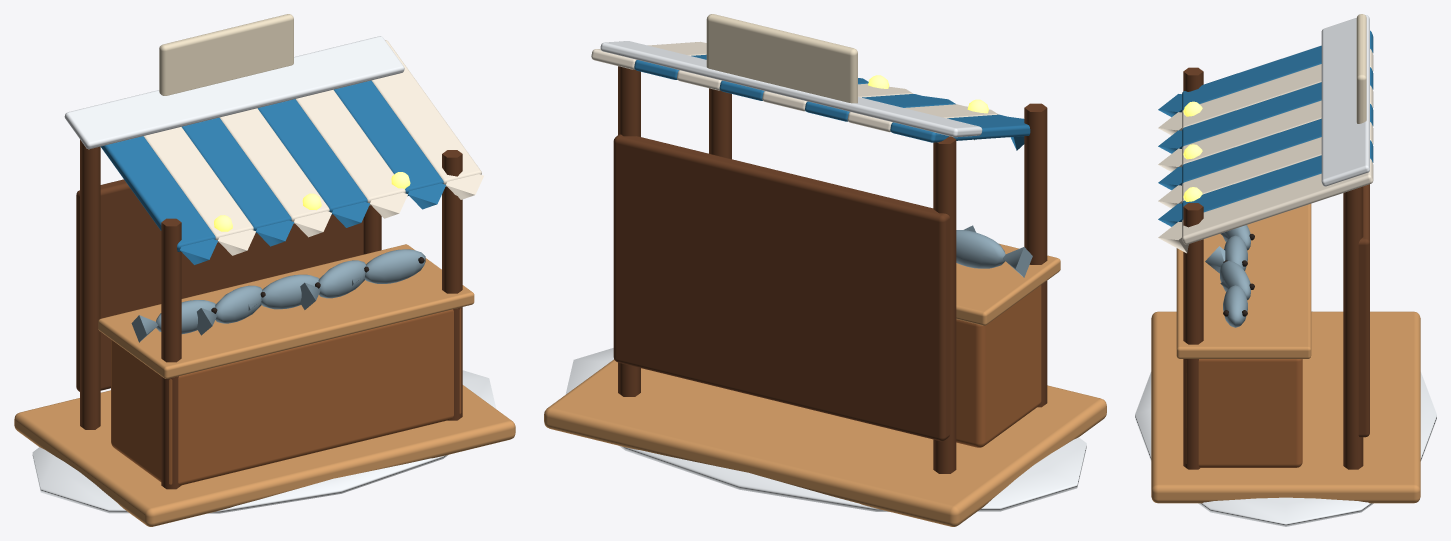
Rendered from shop_fish.glb.
3 renders of one model, left to right at view 1: azimuth 30°, elevation 25°; view 2: azimuth 150°, elevation 25°; view 3: azimuth 270°, elevation 25°, orthographic. The views are drawn at different scales.
Visible parts, largest first — view 1: n2623, n2620, n2624, n2629, n2647, n2648, n2626, n2621, n2631, n2635, n2639, n2625 (+20 smaller); view 2: n2629, n2620, n2623, n2648, n2621, n2647, n2625, n2624, n2626, n2628, n2631, n2651 (+5 smaller); view 3: n2620, n2624, n2623, n2647, n2621, n2628, n2645, n2627, n2629, n2635, n2639, n2631 (+10 smaller).
Boxes of the visible parts, x1,y1,x2,y2 form: n2623: [111, 308, 461, 485]; n2620: [14, 385, 515, 526]; n2624: [98, 244, 474, 378]; n2629: [76, 179, 363, 391]; n2647: [64, 36, 404, 149]; n2648: [159, 14, 293, 95]; n2626: [80, 139, 100, 429]; n2621: [32, 370, 496, 513]; n2631: [101, 136, 215, 251]; n2635: [182, 117, 291, 233]; n2639: [258, 99, 367, 214]; n2625: [161, 218, 181, 489]; n2629: [613, 134, 950, 441]; n2620: [544, 359, 1106, 526]; n2623: [956, 285, 1041, 447]; n2648: [706, 14, 857, 103]; n2621: [565, 348, 1086, 511]; n2647: [600, 41, 982, 137]; n2625: [1024, 103, 1047, 407]; n2624: [956, 243, 1060, 325]; n2626: [933, 136, 956, 473]; n2628: [618, 66, 640, 396]; n2631: [890, 114, 1030, 142]; n2651: [956, 230, 1005, 268]; n2620: [1151, 311, 1420, 503]; n2624: [1176, 204, 1311, 358]; n2623: [1185, 359, 1302, 467]; n2647: [1321, 15, 1369, 186]; n2621: [1135, 311, 1436, 526]; n2628: [1343, 186, 1363, 469]; n2645: [1182, 158, 1373, 244]; n2627: [1183, 203, 1203, 469]; n2629: [1358, 184, 1369, 437]; n2635: [1182, 67, 1373, 147]; n2639: [1182, 104, 1373, 184]; n2631: [1182, 30, 1373, 110].
Bounding box in the file's own units: 3.03 × 2.53 × 1.79.
